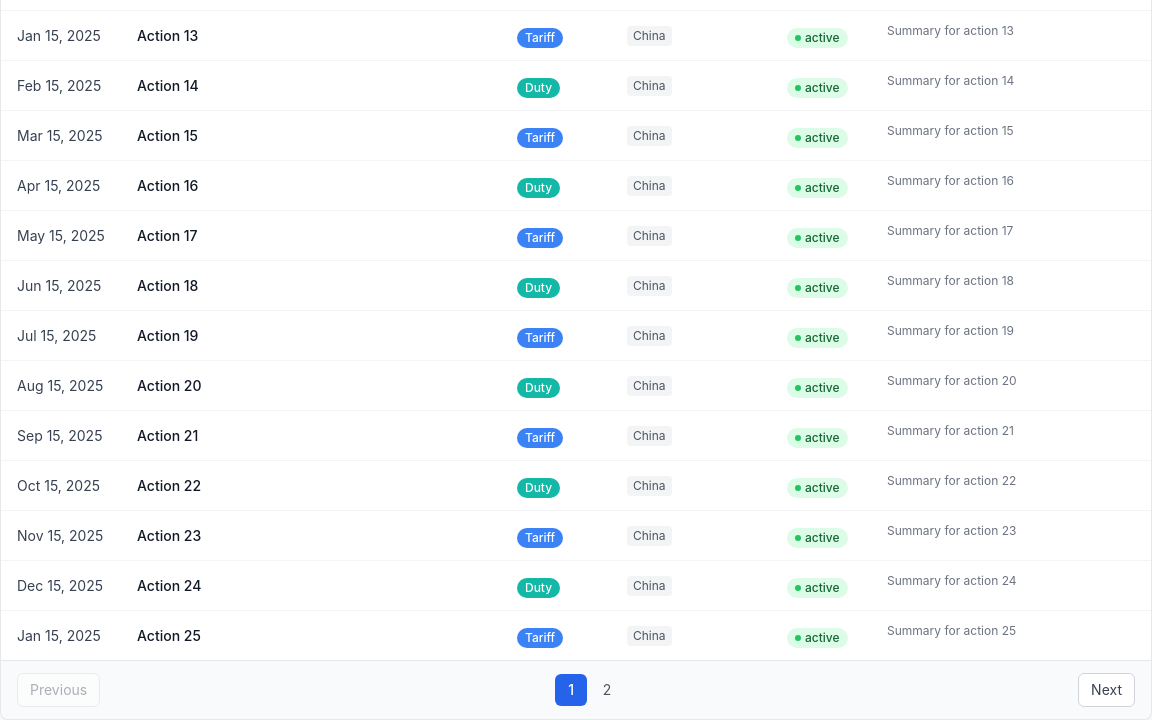
TableView — Pagination › navigates back when Previous is clicked
(page scrolled)
What coordinates should you click on to do the following:
click the button "Next"
I would click on:
 (1107, 690)
Its box is left=1078, top=673, right=1135, bottom=707.
(page scrolled)
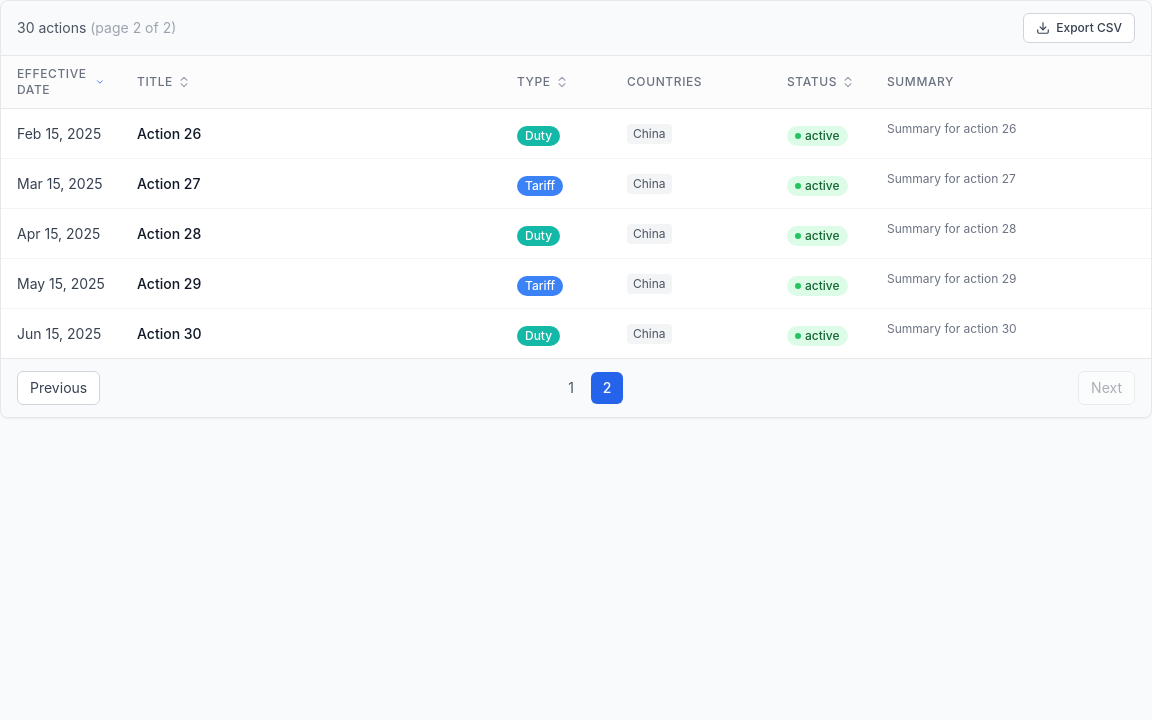
Check: the text "Action 26" is shown, box left=137, top=124, right=201, bottom=142
What coordinates should you click on to do the following:
click the button "Previous"
I would click on:
 (59, 388)
Its box is left=17, top=371, right=100, bottom=405.
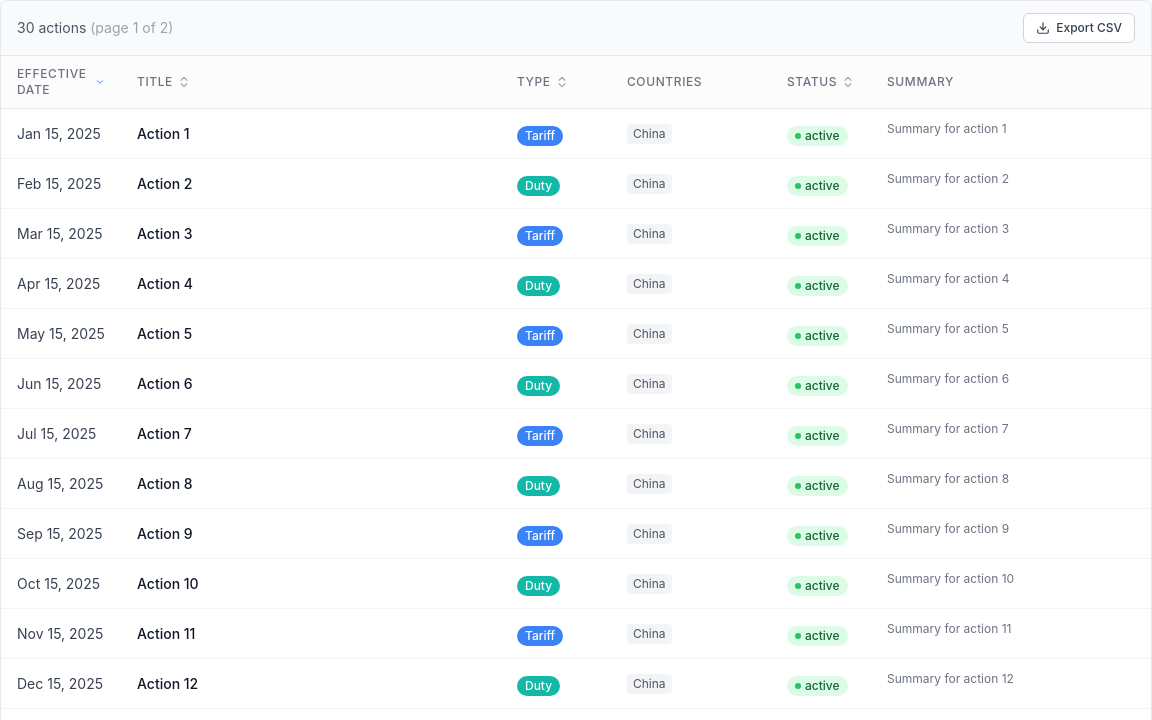
Check: the text "Action 1" is shown, box left=137, top=124, right=190, bottom=142
